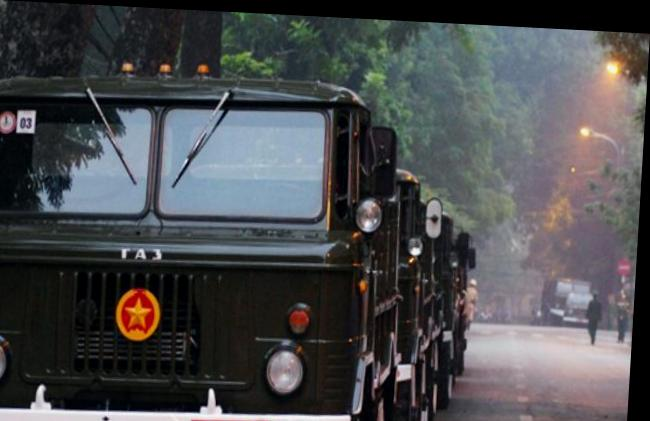License_Plate: (190, 417, 270, 421)
